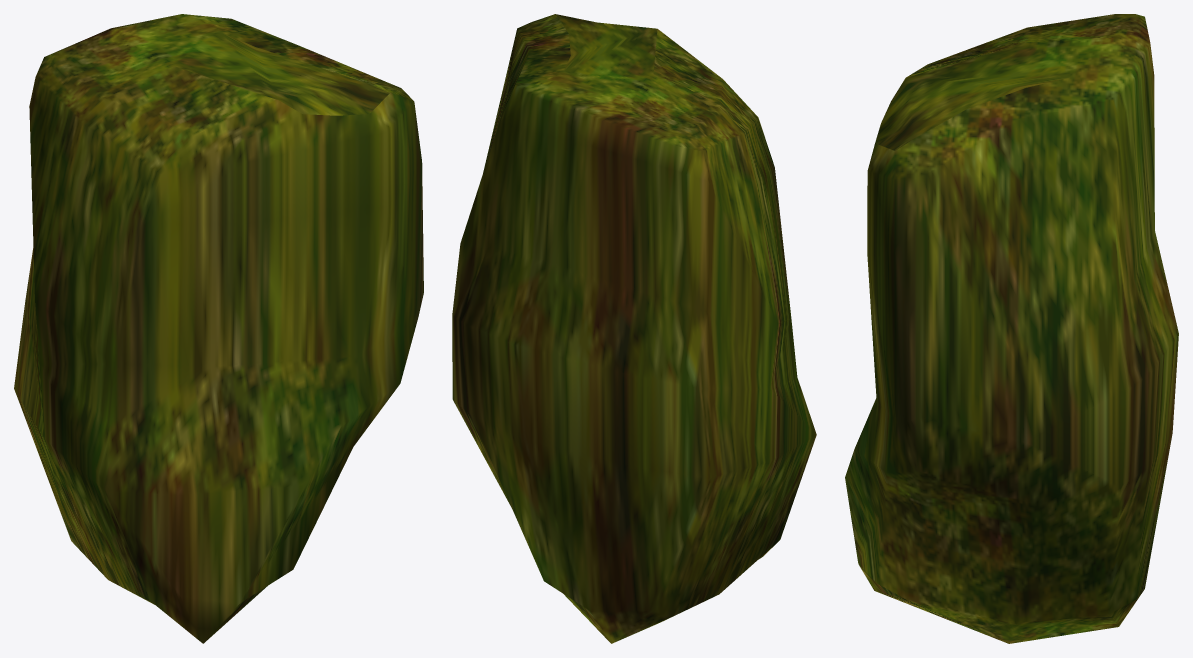
Rendered from LVL_ROAST_MUTTON_ROCK05.fbx.
3 views of the same model, side by side, from view 1: azimuth 30°, elevation 25°; view 2: azimuth 150°, elevation 25°; view 3: azimuth 270°, elevation 25° (orthographic). The views are drawn at different scales.
Parts seen in each view (by area): view 1: LVL_ROAST_MUTTON_ROCK05; view 2: LVL_ROAST_MUTTON_ROCK05; view 3: LVL_ROAST_MUTTON_ROCK05.
Boxes of the visible parts, bbox=[...] form: LVL_ROAST_MUTTON_ROCK05: bbox=[14, 14, 423, 643]; LVL_ROAST_MUTTON_ROCK05: bbox=[452, 14, 816, 643]; LVL_ROAST_MUTTON_ROCK05: bbox=[845, 14, 1178, 643].
Size of the model in its own units: 45763 by 72002 by 36082.
Materials: 1 (1 with a texture image).
